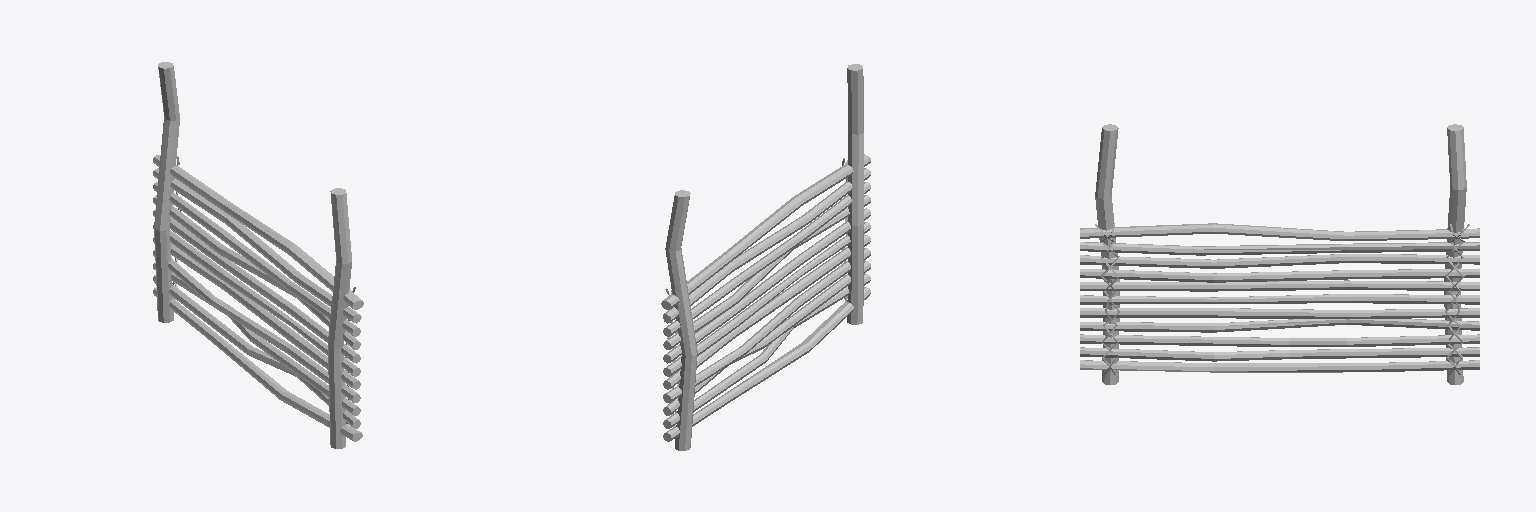
The model's file is vallaCasa.obj.
3 renders of one model, left to right at view 1: azimuth 30°, elevation 25°; view 2: azimuth 150°, elevation 25°; view 3: azimuth 270°, elevation 25°, orthographic.
Visible parts, largest first — view 1: VallaCasa_Cylinder.001; view 2: VallaCasa_Cylinder.001; view 3: VallaCasa_Cylinder.001.
Boxes of the visible parts, <box> form: VallaCasa_Cylinder.001: <box>153,62,363,448</box>; VallaCasa_Cylinder.001: <box>661,64,870,450</box>; VallaCasa_Cylinder.001: <box>1080,124,1479,384</box>.
Bounding box in the file's own units: 0.2082 × 1.69 × 2.4.